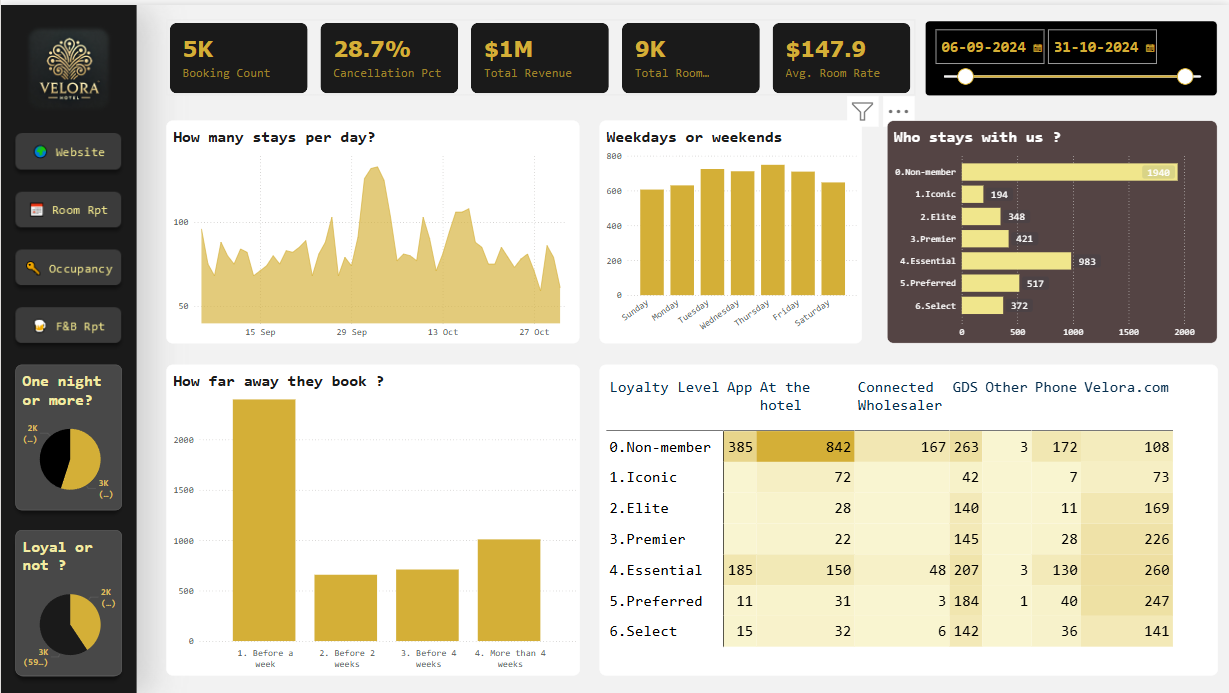

The dashboard page shown, as its layout file describes it:
{"tool":"powerbi","page":{"name":"Bookings Report BLANK","canvas":[1920,1080],"ordinal":0},"visuals":[{"type":"cardVisual","fields":{"Data":["bookings.Booking Count","bookings.Cancellation Pct","bookings.Total Revenue","bookings.Total Room Nights","bookings.Avg. Room Rate"]},"box":[258,22,1168,120],"z":0},{"type":"areaChart","title":"How many stays per day?","fields":{"Category":["bookings.Stay Date"],"Y":["bookings.Booking Count"]},"box":[257.6,179.2,644,347.2],"z":1000},{"type":"slicer","fields":{"Values":["bookings.Stay Date"]},"box":[1441.1,24.3,455.5,117.6],"z":2000},{"type":"clusteredColumnChart","title":"Weekdays or weekends","fields":{"Y":["bookings.Booking Count"],"Category":["bookings.Day Name"]},"box":[933.3,179.2,408.8,347.2],"z":3000},{"type":"clusteredBarChart","title":"Who stays with us ?","fields":{"Category":["bookings.Loyalty Level"],"Y":["bookings.Booking Count"]},"box":[1381.3,179.2,515.2,347.2],"z":4000},{"type":"clusteredColumnChart","title":"How far away they book ?","fields":{"Y":["bookings.Booking Count"],"Category":["bookings.How far away bucket"]},"box":[257.8,560.5,644.4,484.8],"z":4002},{"type":"pivotTable","fields":{"Rows":["bookings.Loyalty Level"],"Columns":["bookings.Booking Channel"],"Values":["bookings.Booking Count"]},"box":[932.8,560.5,963.5,484.8],"z":4003},{"type":"pieChart","title":"One night or more?","fields":{"Y":["bookings.Multi-night booking count","bookings.Single night booking count"]},"box":[21.7,560.9,166.3,227.2],"z":4004},{"type":"pieChart","title":"Loyal or not ?","fields":{"Y":["bookings.Not Loyal Customer Booking Count","bookings.Loyal Customer Booking Count"]},"box":[21.7,818.5,166.3,227.2],"z":4005}]}

Visuals, with their boxes on the page's 1920x1080 design canvas (x1, y1, x2, y2). These are canvas units, not pixel positions in the 1229x693 screenshot, which may show the page scaled, cropped or inside an application window:
cardVisual - bookings.Booking Count x bookings.Cancellation Pct: <region>258, 22, 1426, 142</region>
"How many stays per day?" areaChart: <region>258, 179, 902, 526</region>
slicer - bookings.Stay Date: <region>1441, 24, 1897, 142</region>
"Weekdays or weekends" clusteredColumnChart: <region>933, 179, 1342, 526</region>
"Who stays with us ?" clusteredBarChart: <region>1381, 179, 1896, 526</region>
"How far away they book ?" clusteredColumnChart: <region>258, 560, 902, 1045</region>
pivotTable - bookings.Loyalty Level x bookings.Booking Channel: <region>933, 560, 1896, 1045</region>
"One night or more?" pieChart: <region>22, 561, 188, 788</region>
"Loyal or not ?" pieChart: <region>22, 818, 188, 1046</region>
